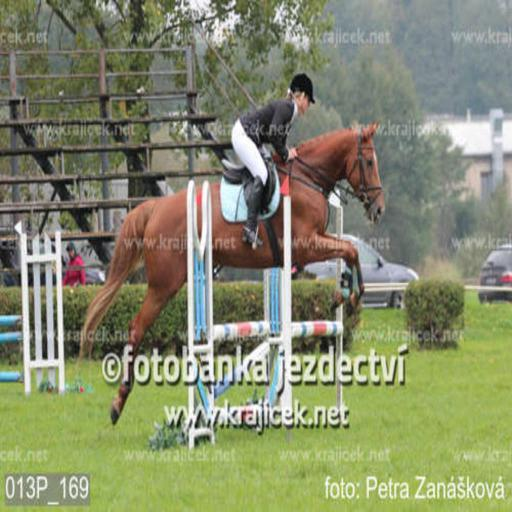horse: (76, 116, 385, 424)
